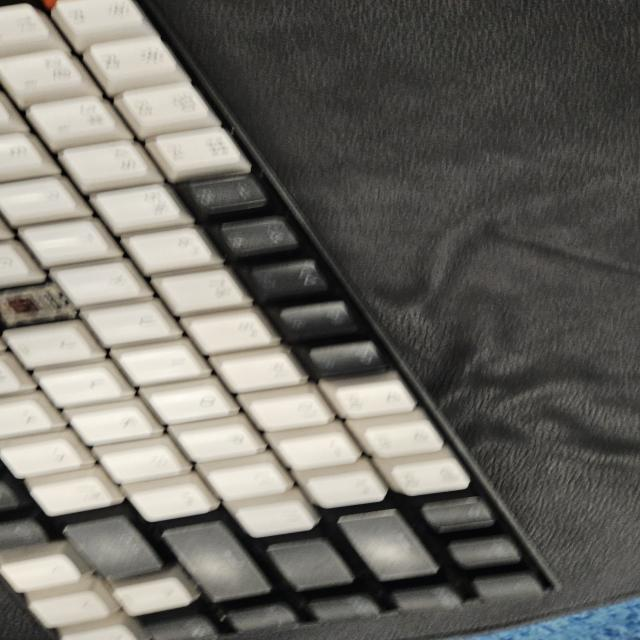C: (0, 289, 46, 319)
